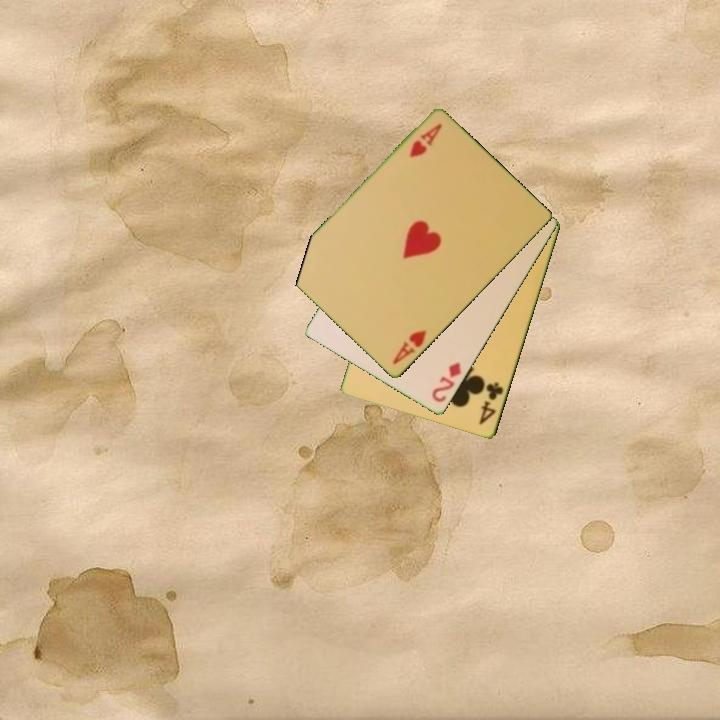2d: (428, 359, 464, 406)
4c: (476, 379, 507, 428)
Ah: (389, 327, 429, 368), (406, 120, 445, 161)
